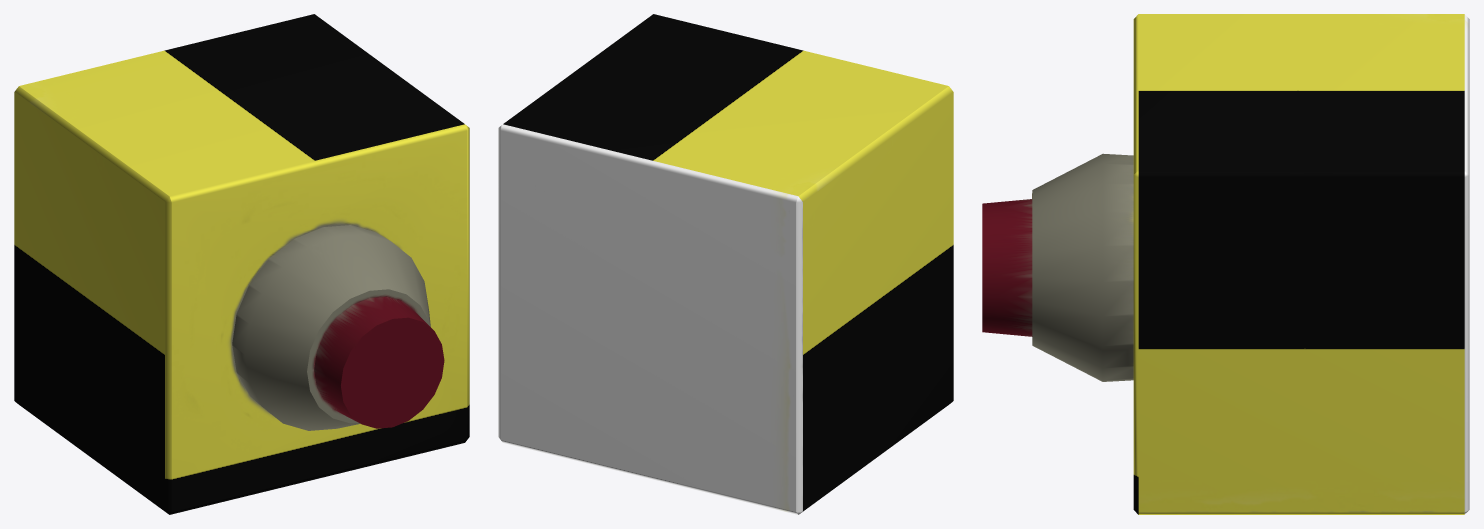
The model's file is Emergency_Button 1.fbx.
3 renders of one model, left to right at view 1: azimuth 30°, elevation 25°; view 2: azimuth 150°, elevation 25°; view 3: azimuth 270°, elevation 25°, orthographic. The views are drawn at different scales.
Parts seen in each view (by area): view 1: polySurface36; view 2: polySurface36; view 3: polySurface36.
Boxes of the visible parts, x1=… form: polySurface36: x1=14, y1=14, x2=469, y2=514; polySurface36: x1=498, y1=14, x2=953, y2=514; polySurface36: x1=982, y1=14, x2=1469, y2=514.
Bounding box in the file's own units: 176 × 176 × 226.
Materials: 1 (1 with a texture image).
